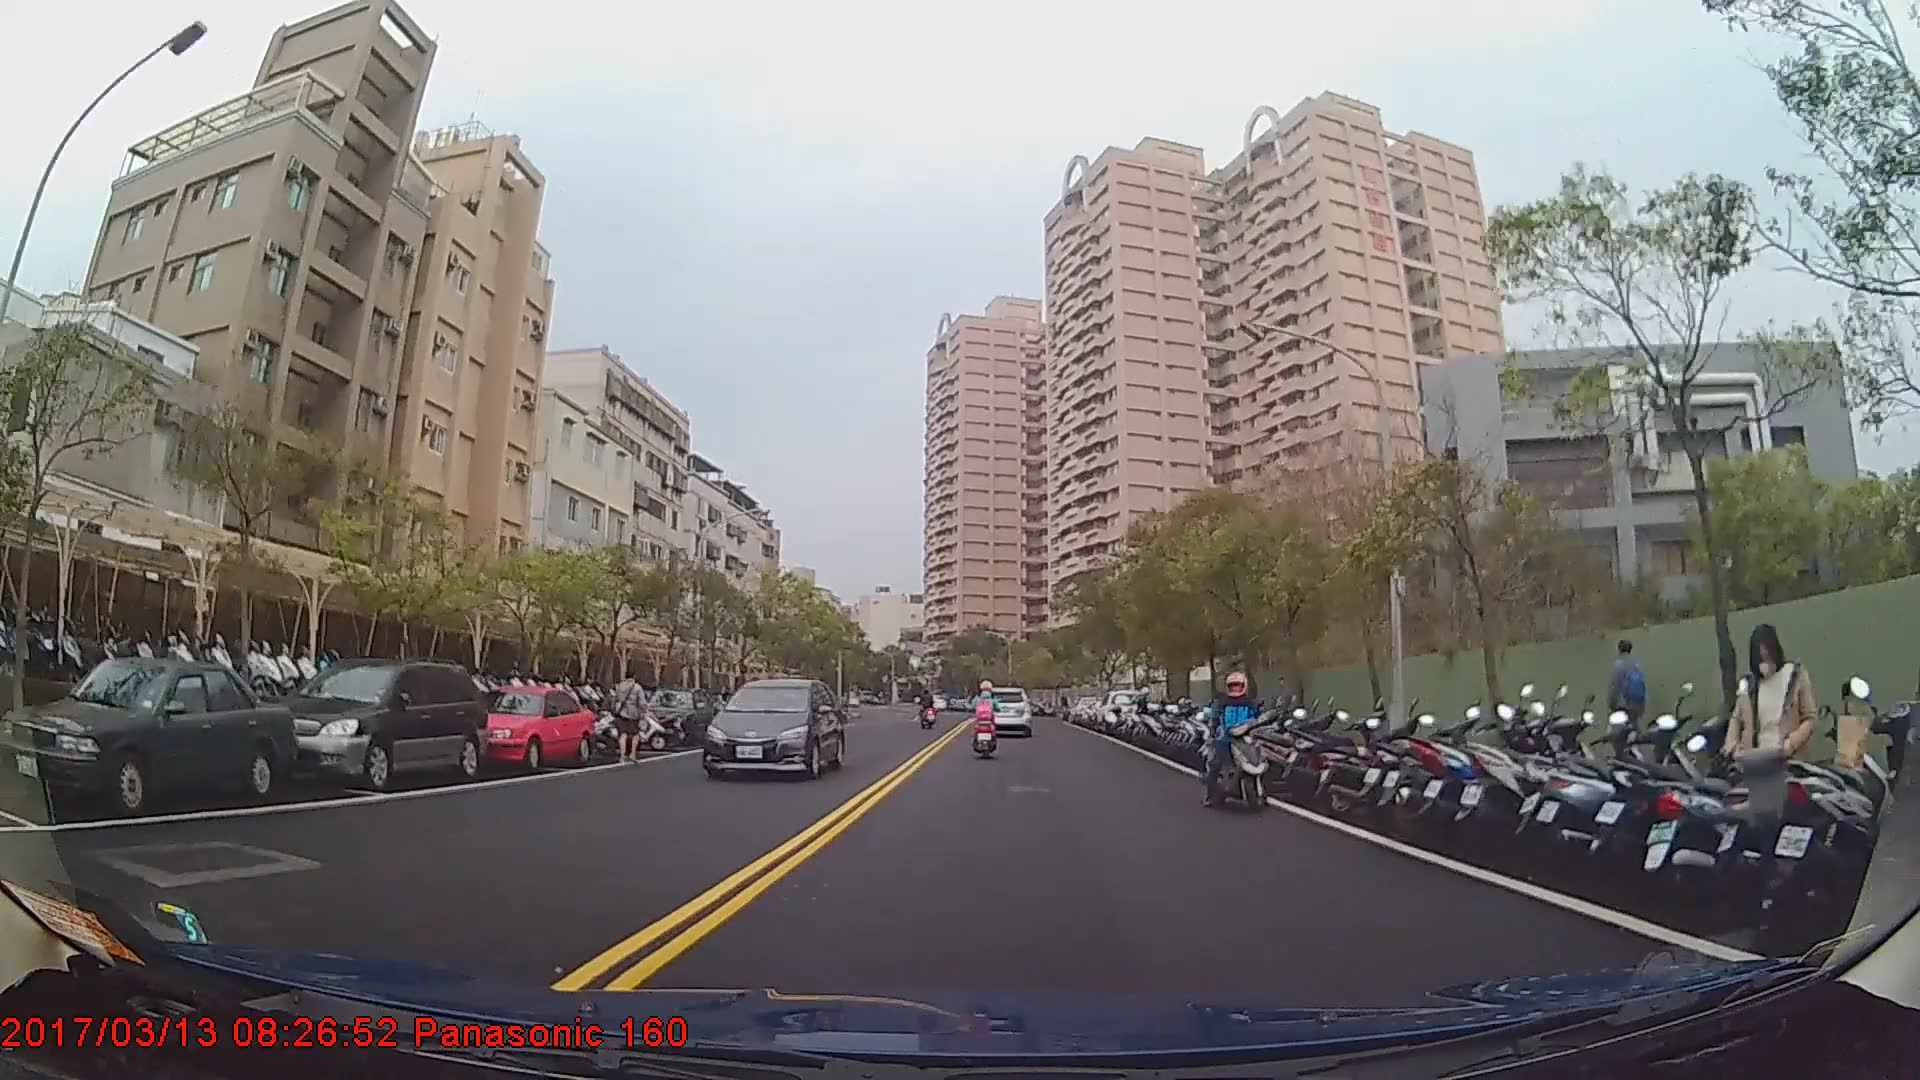pedestrian: (1720, 623, 1820, 911), (1602, 632, 1649, 786), (601, 664, 657, 777)
rider: (1203, 672, 1274, 814), (968, 680, 1000, 755), (917, 690, 937, 727)
vehicle: (0, 656, 289, 811), (255, 658, 488, 788), (700, 675, 843, 779), (464, 687, 594, 772), (638, 686, 715, 747), (979, 686, 1031, 738), (1091, 688, 1150, 734)
